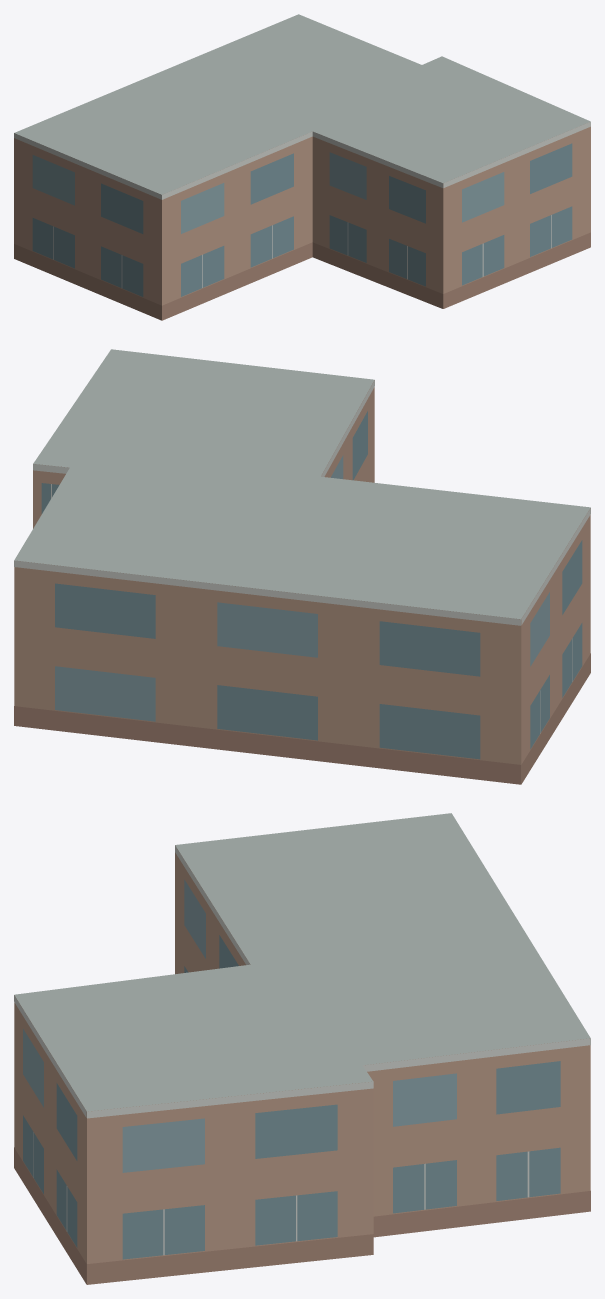
Rendered from survey-upis-32647059.glb.
3 renders of one model, top to bottom at view 1: azimuth 30°, elevation 25°; view 2: azimuth 150°, elevation 25°; view 3: azimuth 270°, elevation 25°, orthographic. The views are drawn at different scales.
Parts seen in each view (by area): view 1: survey-upis-32647059.tmp; view 2: survey-upis-32647059.tmp; view 3: survey-upis-32647059.tmp.
Part boxes in pixels (x1,y1,x2,y2): survey-upis-32647059.tmp: (14, 14, 590, 320); survey-upis-32647059.tmp: (14, 349, 590, 784); survey-upis-32647059.tmp: (14, 813, 590, 1284).
Bounding box in the file's own units: 22.55 × 6.1 × 18.41.
